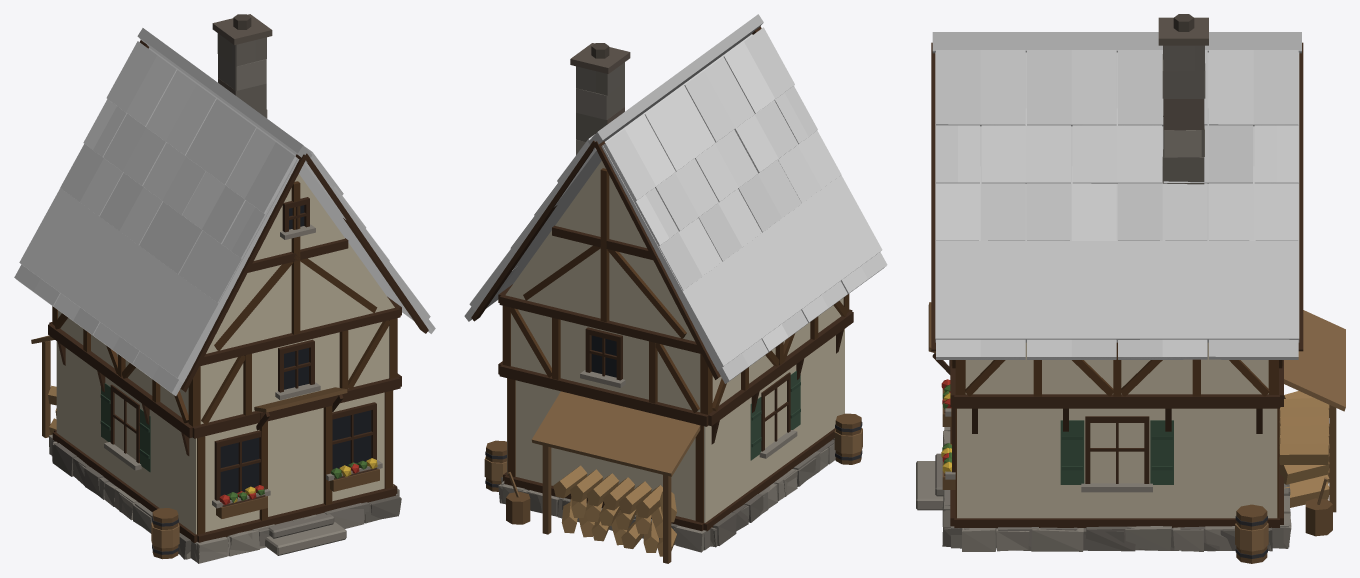
File: human_house.glb
3 views of the same model, side by side, from view 1: azimuth 30°, elevation 25°; view 2: azimuth 150°, elevation 25°; view 3: azimuth 270°, elevation 25° (orthographic). The views are drawn at different scales.
Parts seen in each view (by area): view 1: human_house_a_hi, human_house_a, human_house_b_hi; view 2: human_house_a_hi, human_house_a, human_house_b_hi; view 3: human_house_a_hi, human_house_a, human_house_b_hi.
Boxes of the visible parts, <box> form: human_house_a_hi: <box>14,14,435,563</box>; human_house_a: <box>19,37,430,561</box>; human_house_b_hi: <box>16,41,435,563</box>; human_house_a_hi: <box>464,14,887,546</box>; human_house_a: <box>469,34,882,550</box>; human_house_b_hi: <box>464,42,867,563</box>; human_house_a_hi: <box>916,14,1303,563</box>; human_house_a: <box>935,45,1299,548</box>; human_house_b_hi: <box>936,50,1345,551</box>.
Bounding box in the file's own units: 1.37 × 2.16 × 1.68.
